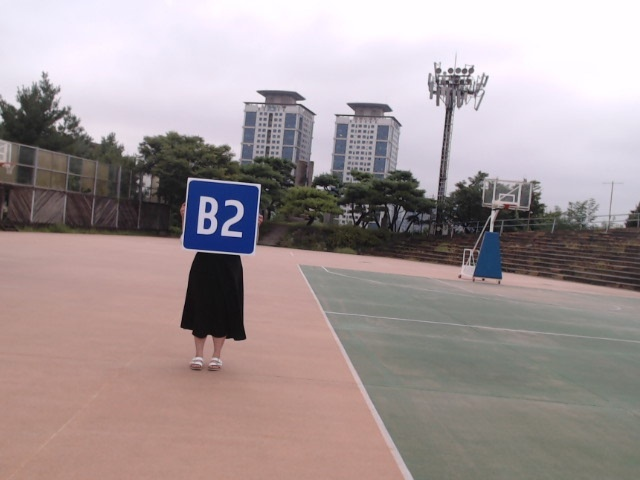delivery_b2: (181, 180, 261, 255)
